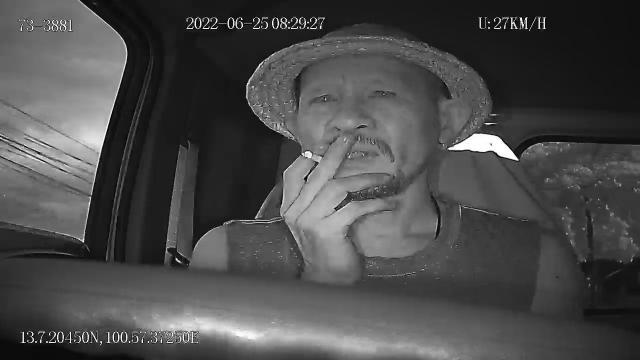SafeDriving: (363, 80, 402, 104), (306, 86, 343, 109)
Smoking: (302, 150, 326, 164)
